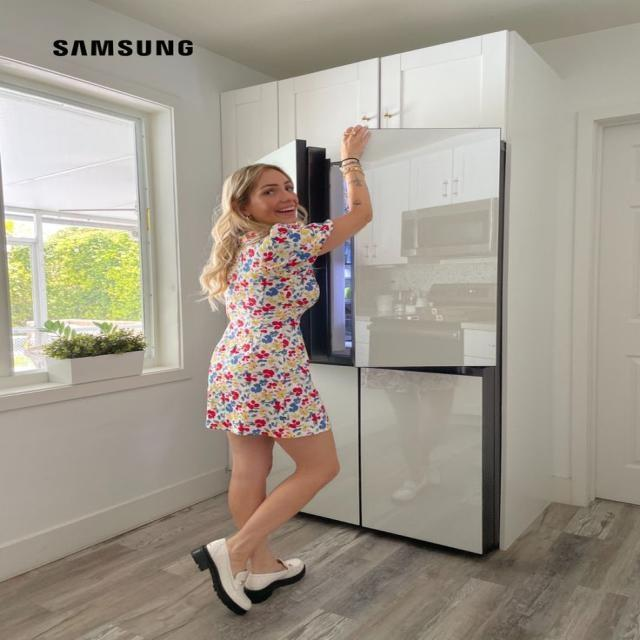obstacle: (220, 27, 568, 550)
person: (190, 124, 373, 616)
